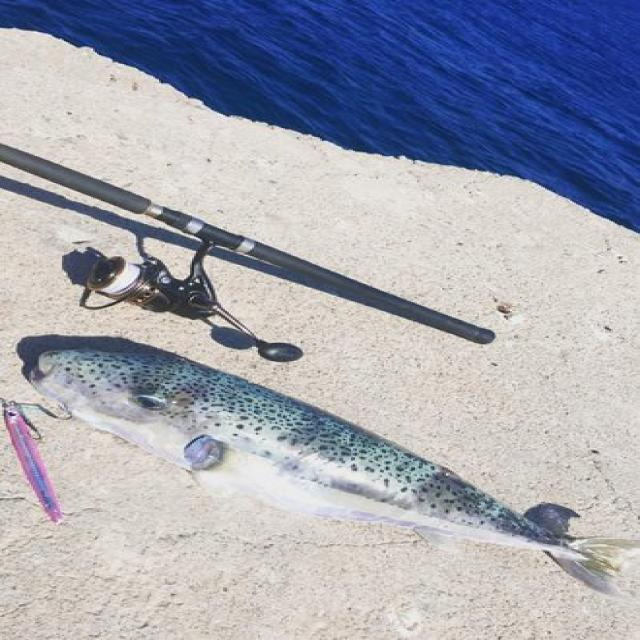Balik: (32, 351, 639, 595)
